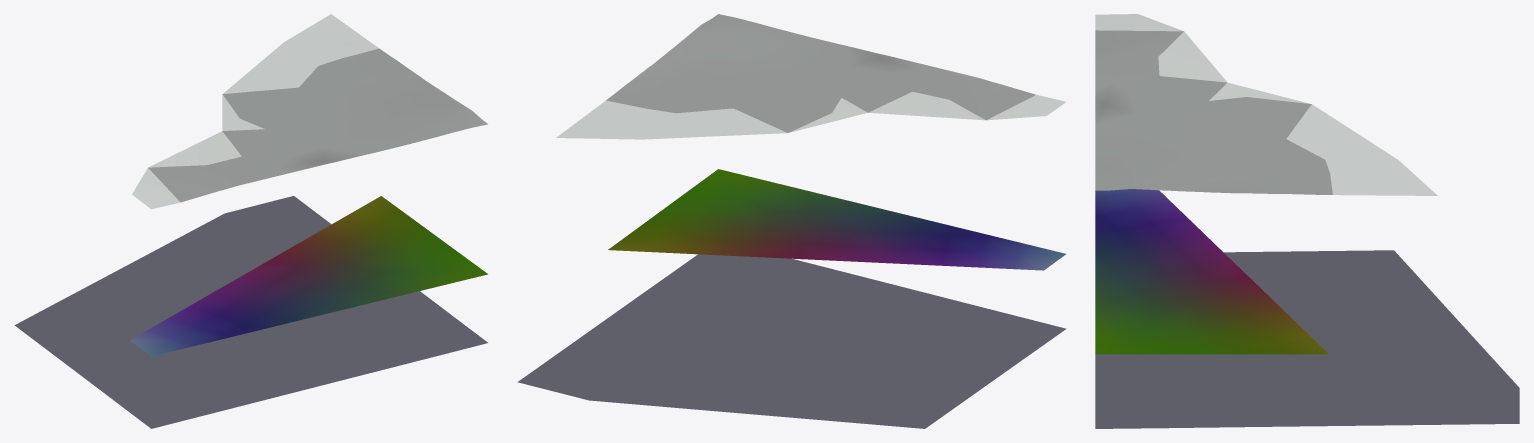
The picture shows the model from 3 angles, left to right: view 1: azimuth 30°, elevation 25°; view 2: azimuth 150°, elevation 25°; view 3: azimuth 270°, elevation 25°; orthographic projection. The views are drawn at different scales.
Parts seen in each view (by area): view 1: G:\FFXIV-MapTools\exports\r2f1\bg\ex1\01_roc_r2\fld\r2f1\bgp (×5); view 2: G:\FFXIV-MapTools\exports\r2f1\bg\ex1\01_roc_r2\fld\r2f1\bgp (×5); view 3: G:\FFXIV-MapTools\exports\r2f1\bg\ex1\01_roc_r2\fld\r2f1\bgp (×5).
Boxes of the visible parts, <box> form: G:\FFXIV-MapTools\exports\r2f1\bg\ex1\01_roc_r2\fld\r2f1\bgp (×5): <box>14,14,487,428</box>; G:\FFXIV-MapTools\exports\r2f1\bg\ex1\01_roc_r2\fld\r2f1\bgp (×5): <box>517,14,1066,428</box>; G:\FFXIV-MapTools\exports\r2f1\bg\ex1\01_roc_r2\fld\r2f1\bgp (×5): <box>1095,14,1519,428</box>.
Size of the model in its own units: 128 by 81.34 by 128.
